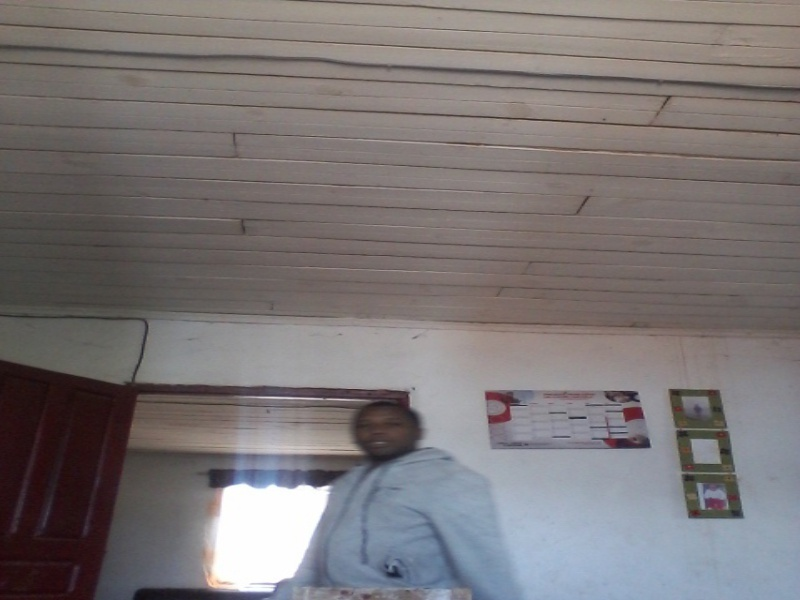TsisyArotava: (349, 395, 420, 465)
